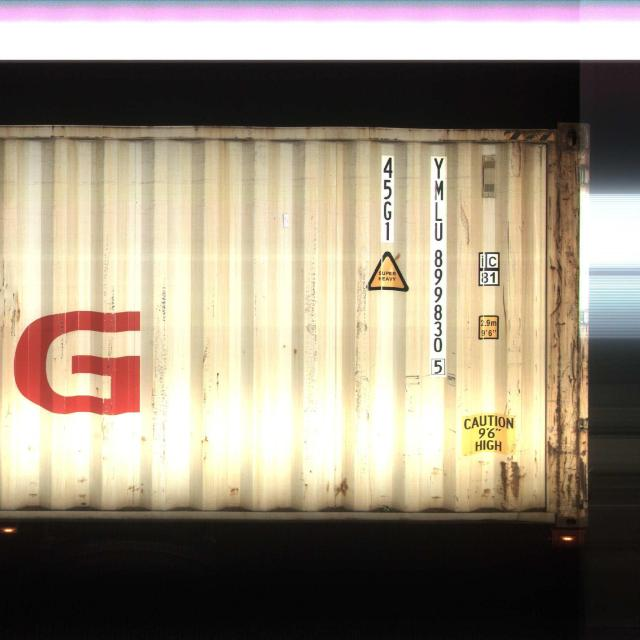rust: (553, 152, 585, 309), (550, 393, 590, 514), (500, 458, 525, 510)
